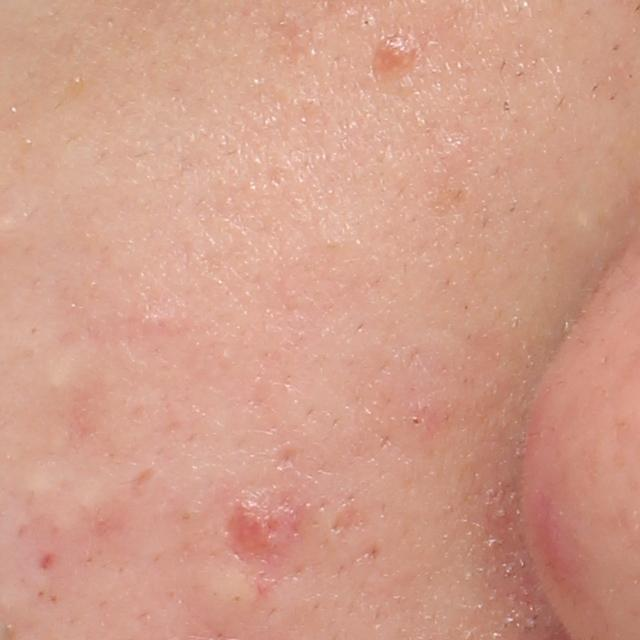atrophic_scar: (327, 504, 369, 546), (126, 465, 156, 505), (273, 441, 302, 472)
comedo: (359, 14, 378, 30)
hypertrophic_scar: (196, 569, 260, 631), (30, 348, 87, 400)
papule: (224, 494, 293, 564), (368, 32, 425, 79)
